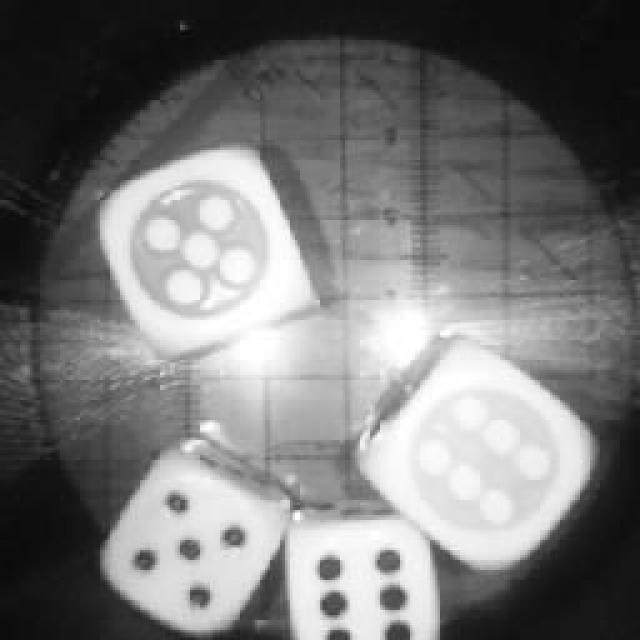dice_5: (92, 137, 330, 365), (90, 447, 287, 640)
dice_6: (352, 330, 608, 580), (275, 505, 450, 640)
